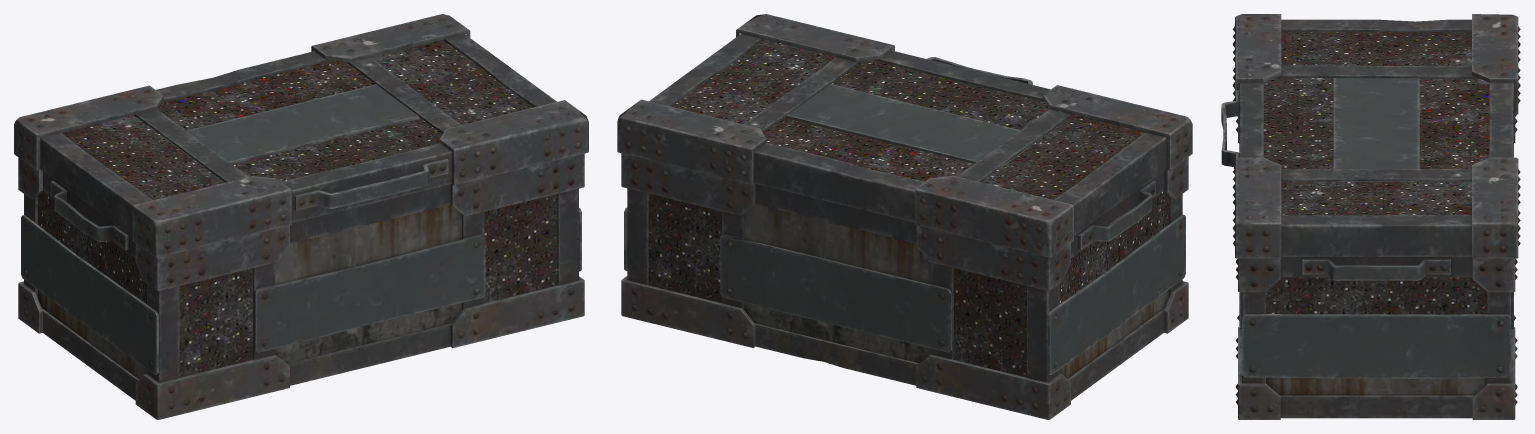
Rendered from component_box_metal.glb.
The picture shows the model from 3 angles, left to right: view 1: azimuth 30°, elevation 25°; view 2: azimuth 150°, elevation 25°; view 3: azimuth 270°, elevation 25°; orthographic projection.
Visible parts, largest first — view 1: component_box_metal; view 2: component_box_metal; view 3: component_box_metal.
Part boxes in pixels (bbox=[...]): component_box_metal: bbox=[14, 14, 588, 419]; component_box_metal: bbox=[617, 14, 1192, 419]; component_box_metal: bbox=[1221, 14, 1520, 419].
Bounding box in the file's own units: 1.85 × 0.7885 × 1.07.
Materials: 1 (1 with a texture image).
